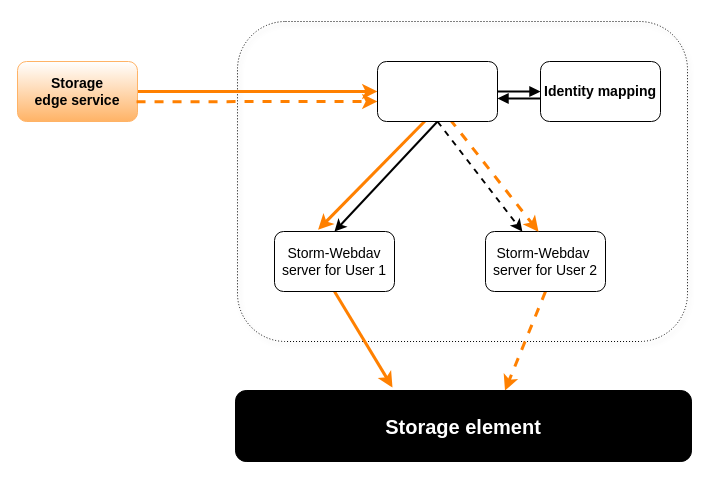
Image size: 711x479. Some labels were removed from this diagram. Each missing label, with the centre of its shape:
Manager: point (437, 91)
Teapot: point (592, 326)
